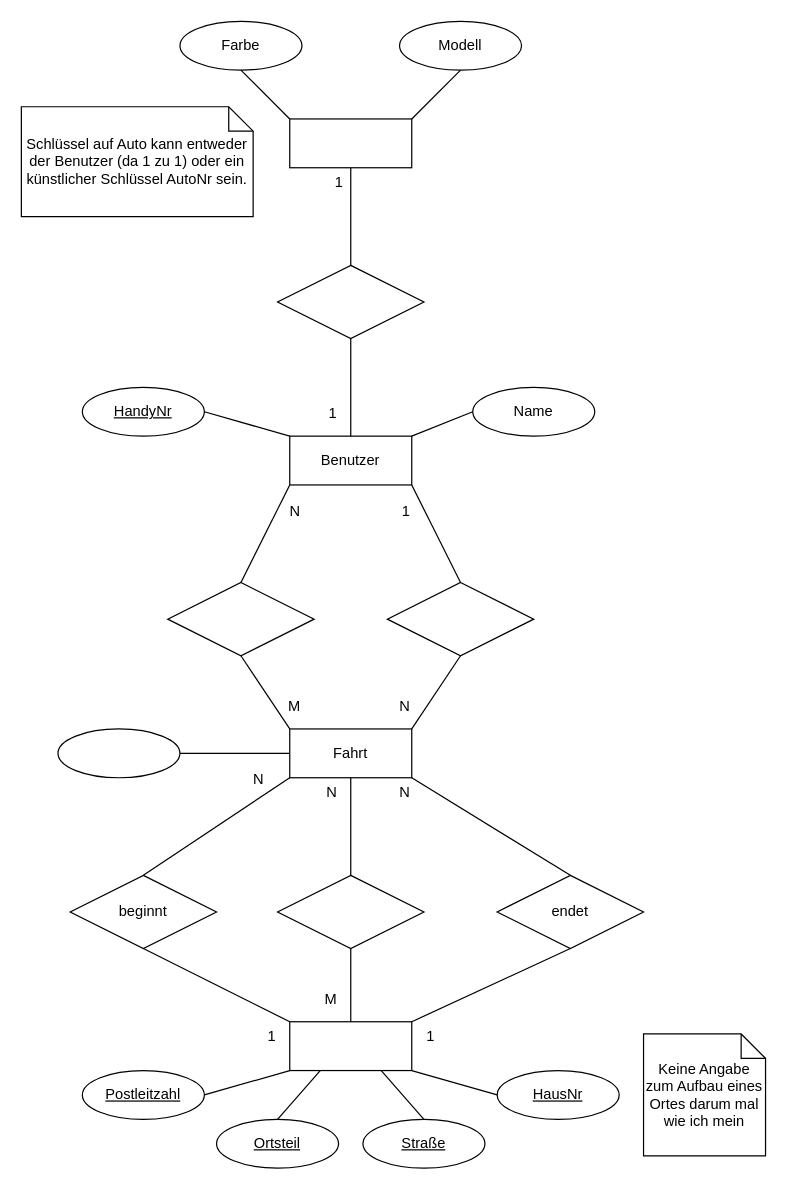
Image size: 787x1190. Some labels were removed from this diagram. Here are the shapes that lost their labels. From the top down, the centre of each, then its label:
At (350,143): "Auto".
At (350,301): "besitzt".
At (240,618): "fährt mit".
At (460,618): "fährt".
At (118,753): "FahrtNr".
At (350,911): "hält".
At (350,1046): "Ort".
